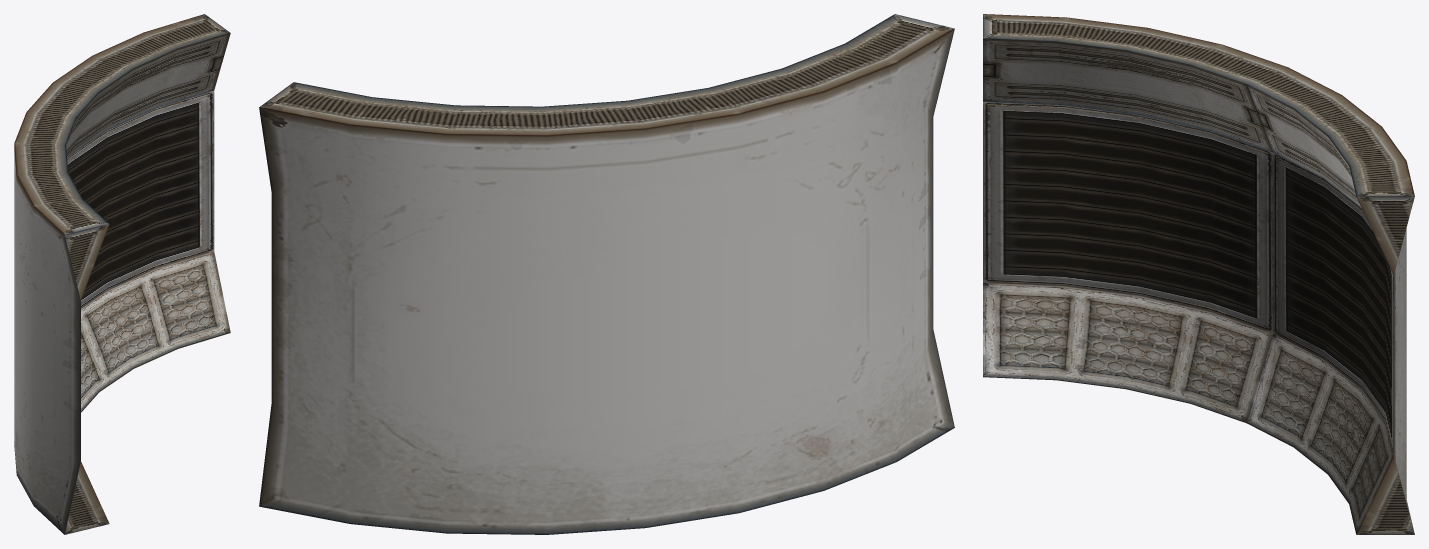
Rendered from scifi_wall_curve2_3.FBX.
3 views of the same model, side by side, from view 1: azimuth 30°, elevation 25°; view 2: azimuth 150°, elevation 25°; view 3: azimuth 270°, elevation 25° (orthographic). The views are drawn at different scales.
Parts seen in each view (by area): view 1: Plane116; view 2: Plane116; view 3: Plane116.
Part boxes in pixels (x1,y1,x2,y2): Plane116: [14, 14, 230, 534]; Plane116: [259, 14, 954, 534]; Plane116: [983, 14, 1414, 534].
Bounding box in the file's own units: 294 × 254 × 294.
